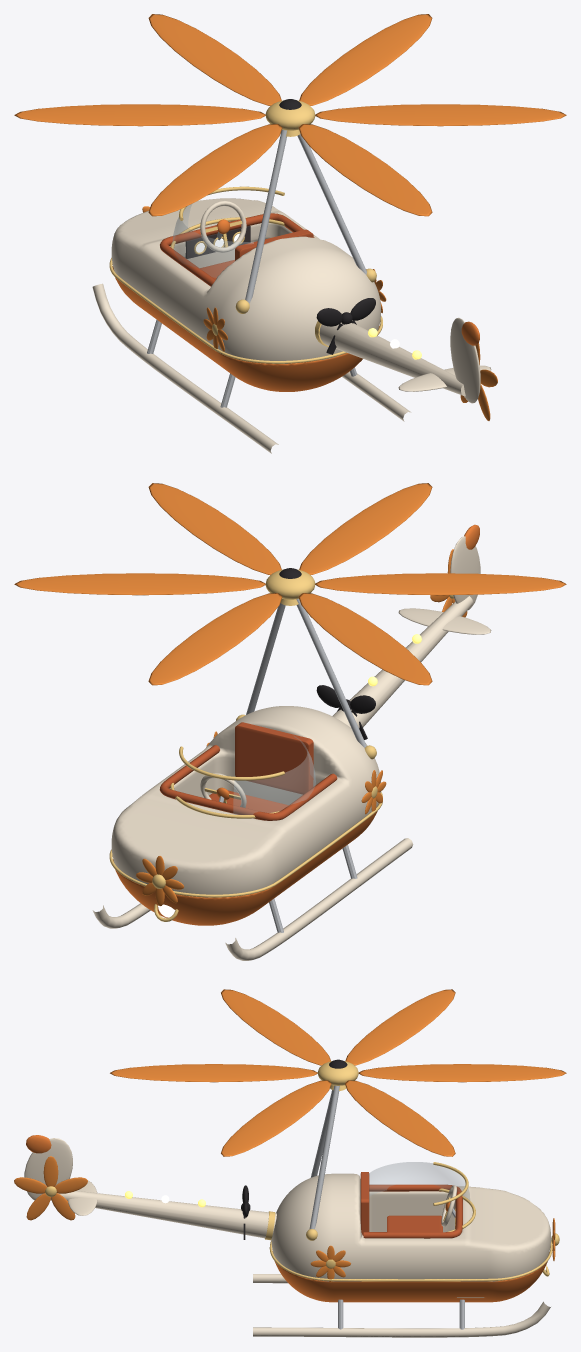
Rendered from heli.glb.
The picture shows the model from 3 angles, top to bottom: view 1: azimuth 30°, elevation 25°; view 2: azimuth 150°, elevation 25°; view 3: azimuth 270°, elevation 25°; orthographic projection. The views are drawn at different scales.
Visible parts, largest first — view 1: hull, belly, rm_petal_1, rm_petal_4, rm_petal_0, rm_petal_5, rm_petal_2, rm_petal_3, tailboom, skid_l, windshield, fin (+9 smaller); view 2: hull, rm_petal_5, rm_petal_2, seat_back, rm_petal_3, rm_petal_4, rm_petal_0, rm_petal_1, belly, windshield, skid_l, tailboom (+9 smaller); view 3: hull, belly, tailboom, rm_petal_3, rm_petal_0, rm_petal_1, rm_petal_2, skid_r, rm_petal_5, rm_petal_4, windshield, coaming (+7 smaller).
Boxes of the visible parts, box(x1,y1,x2,y2) form: hull: box(111, 198, 381, 363); belly: box(112, 266, 379, 391); rm_petal_1: box(315, 104, 566, 126); rm_petal_4: box(14, 104, 265, 126); rm_petal_0: box(298, 124, 432, 216); rm_petal_5: box(148, 124, 282, 216); rm_petal_2: box(299, 14, 432, 105); rm_petal_3: box(148, 14, 281, 105); tailboom: box(319, 322, 465, 396); skid_l: box(92, 283, 278, 453); windshield: box(172, 204, 253, 277); fin: box(450, 317, 480, 403); hull: box(111, 706, 380, 897); rm_petal_5: box(315, 573, 566, 595); rm_petal_2: box(14, 573, 265, 595); seat_back: box(235, 722, 313, 794); rm_petal_3: box(148, 593, 282, 685); rm_petal_4: box(298, 593, 432, 685); rm_petal_0: box(299, 483, 432, 574); rm_petal_1: box(148, 483, 281, 575); belly: box(113, 803, 379, 925); windshield: box(233, 736, 315, 814); skid_l: box(225, 838, 413, 960); tailboom: box(332, 596, 472, 728); hull: box(271, 1173, 550, 1297); belly: box(272, 1251, 549, 1302); tailboom: box(50, 1191, 276, 1238); rm_petal_3: box(358, 1064, 566, 1082); rm_petal_0: box(110, 1064, 317, 1082); rm_petal_1: box(221, 1080, 331, 1156); rm_petal_2: box(345, 1080, 455, 1156); skid_r: box(253, 1301, 550, 1337); rm_petal_5: box(221, 989, 330, 1065); rm_petal_4: box(345, 989, 455, 1065); windshield: box(367, 1162, 469, 1200); coaming: box(363, 1184, 462, 1238).
Size of the model in its own units: 3.26 by 2.26 by 4.54.
